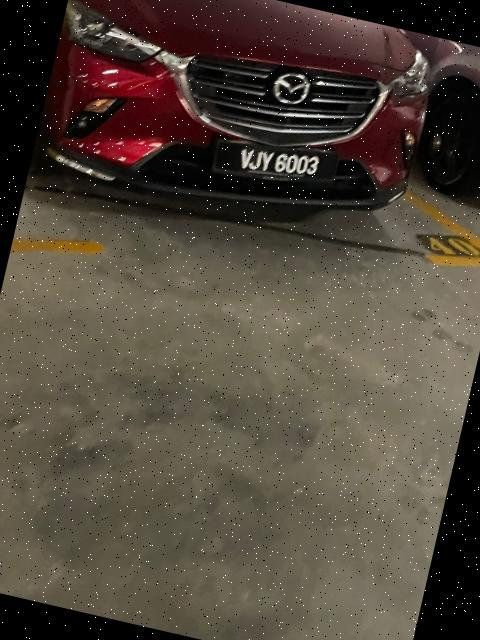License_Plate: (219, 136, 338, 198)
car: (25, 1, 450, 276)
